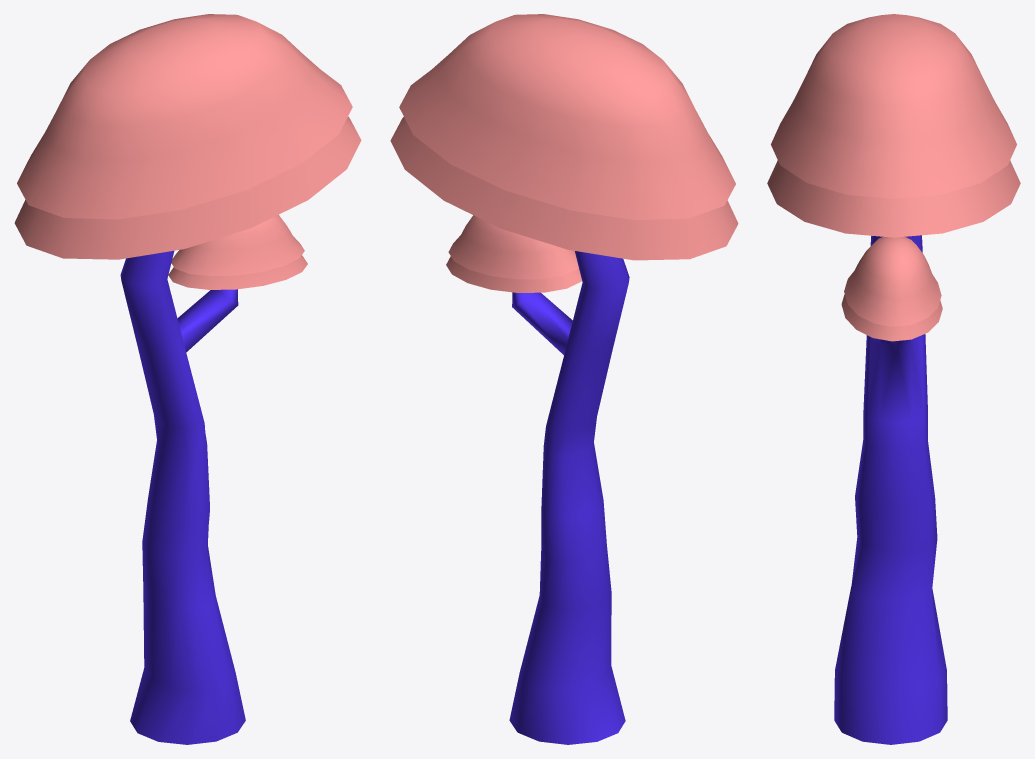
The model's file is Tree.FBX.
3 views of the same model, side by side, from view 1: azimuth 30°, elevation 25°; view 2: azimuth 150°, elevation 25°; view 3: azimuth 270°, elevation 25° (orthographic).
Parts seen in each view (by area): view 1: BigLeaves01, Tree, BigLeaves02, SmallLeaves01, SmallLeaves02; view 2: BigLeaves01, Tree, BigLeaves02, SmallLeaves01, SmallLeaves02; view 3: Tree, BigLeaves01, BigLeaves02, SmallLeaves01, SmallLeaves02.
Part boxes in pixels (x1,y1,x2,y2): BigLeaves01: [17, 14, 352, 219]; Tree: [120, 251, 245, 744]; BigLeaves02: [14, 116, 361, 259]; SmallLeaves01: [171, 215, 304, 276]; SmallLeaves02: [168, 255, 307, 289]; BigLeaves01: [399, 14, 735, 219]; Tree: [509, 251, 629, 744]; BigLeaves02: [390, 117, 738, 260]; SmallLeaves01: [448, 215, 578, 279]; SmallLeaves02: [446, 256, 581, 292]; Tree: [834, 235, 947, 744]; BigLeaves01: [771, 14, 1016, 198]; BigLeaves02: [767, 160, 1020, 237]; SmallLeaves01: [844, 236, 941, 326]; SmallLeaves02: [841, 294, 942, 341].
Bounding box in the file's own units: 218 × 444 × 148.
